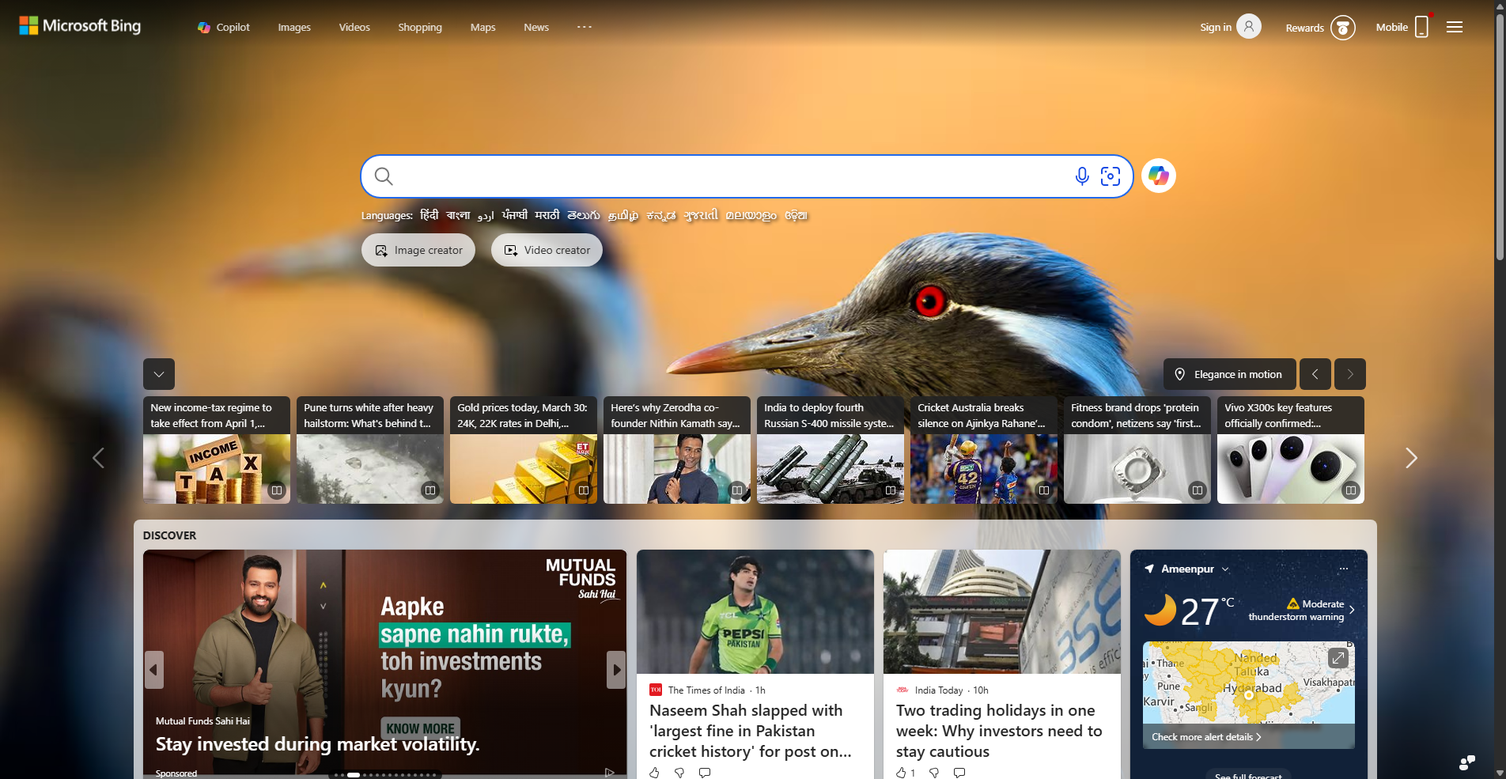button: (361, 233, 1133, 267), (1275, 9, 1367, 44), (1201, 11, 1275, 42), (1376, 11, 1434, 42), (1299, 358, 1331, 390), (1334, 358, 1366, 390), (143, 358, 174, 390), (87, 442, 118, 474), (1392, 442, 1423, 474), (1450, 751, 1485, 776), (1447, 11, 1462, 42), (1101, 167, 1120, 186), (1098, 167, 1117, 186), (1075, 167, 1089, 186), (577, 17, 591, 33)
icon: (9, 16, 151, 38)
label: (374, 167, 393, 186)
link: (1063, 396, 1211, 507), (143, 396, 290, 507), (296, 396, 443, 507), (450, 396, 597, 507), (603, 396, 750, 507), (757, 396, 904, 507), (910, 396, 1057, 507), (1217, 396, 1364, 507), (1370, 396, 1506, 507), (1163, 358, 1296, 390), (361, 233, 475, 267), (491, 233, 603, 267), (198, 11, 250, 42), (1141, 158, 1176, 193), (1105, 270, 1175, 286), (722, 206, 781, 224), (1105, 295, 1158, 312), (1105, 244, 1152, 261), (680, 206, 722, 224), (563, 206, 604, 224), (604, 206, 643, 224), (643, 206, 680, 224), (498, 206, 531, 224), (442, 206, 474, 224), (531, 206, 563, 224), (398, 20, 442, 33), (781, 206, 811, 224), (416, 206, 442, 224), (474, 206, 498, 224), (278, 20, 311, 33), (339, 20, 370, 33), (471, 20, 496, 33), (524, 20, 549, 33)
menu_item: (198, 11, 250, 42), (398, 11, 442, 42), (278, 11, 311, 42), (339, 11, 370, 42), (471, 11, 496, 42), (524, 11, 549, 42), (577, 8, 591, 39)
textarea: (399, 167, 1066, 184)
